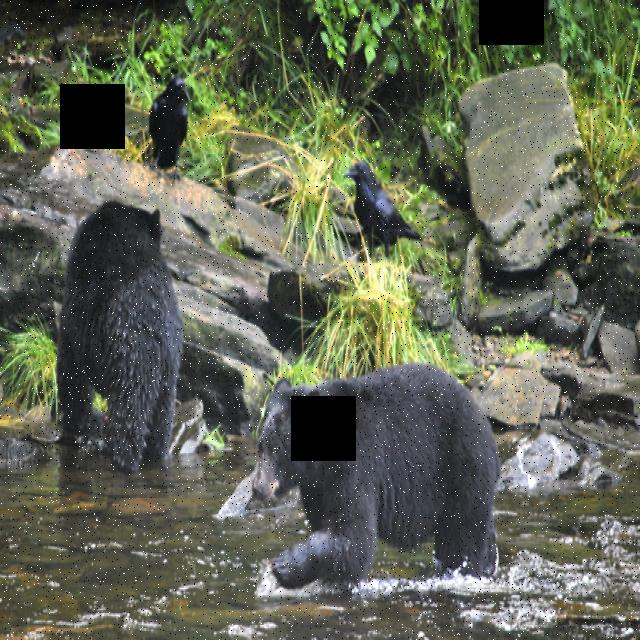Bear: (249, 366, 532, 606), (53, 185, 186, 476)
